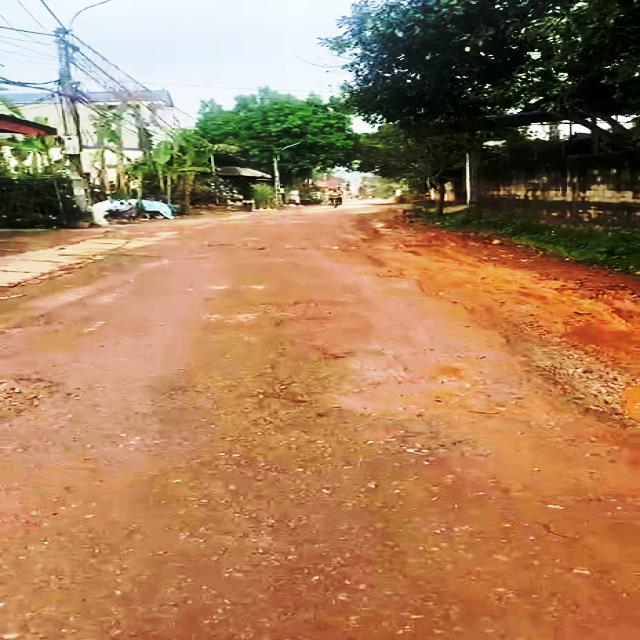pothole: (0, 365, 65, 419)
